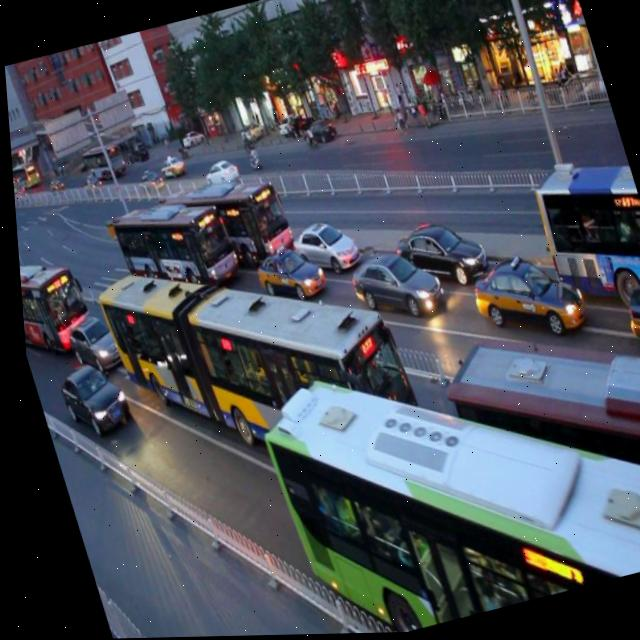car: (458, 239, 587, 357), (336, 236, 441, 332), (386, 207, 488, 296), (45, 352, 130, 443), (242, 233, 323, 311), (278, 207, 358, 283), (58, 308, 124, 376), (609, 273, 640, 357)
van: (240, 290, 640, 636), (81, 207, 438, 550), (424, 296, 640, 608), (519, 151, 640, 313), (100, 179, 240, 313), (153, 158, 295, 284), (14, 240, 88, 351)
